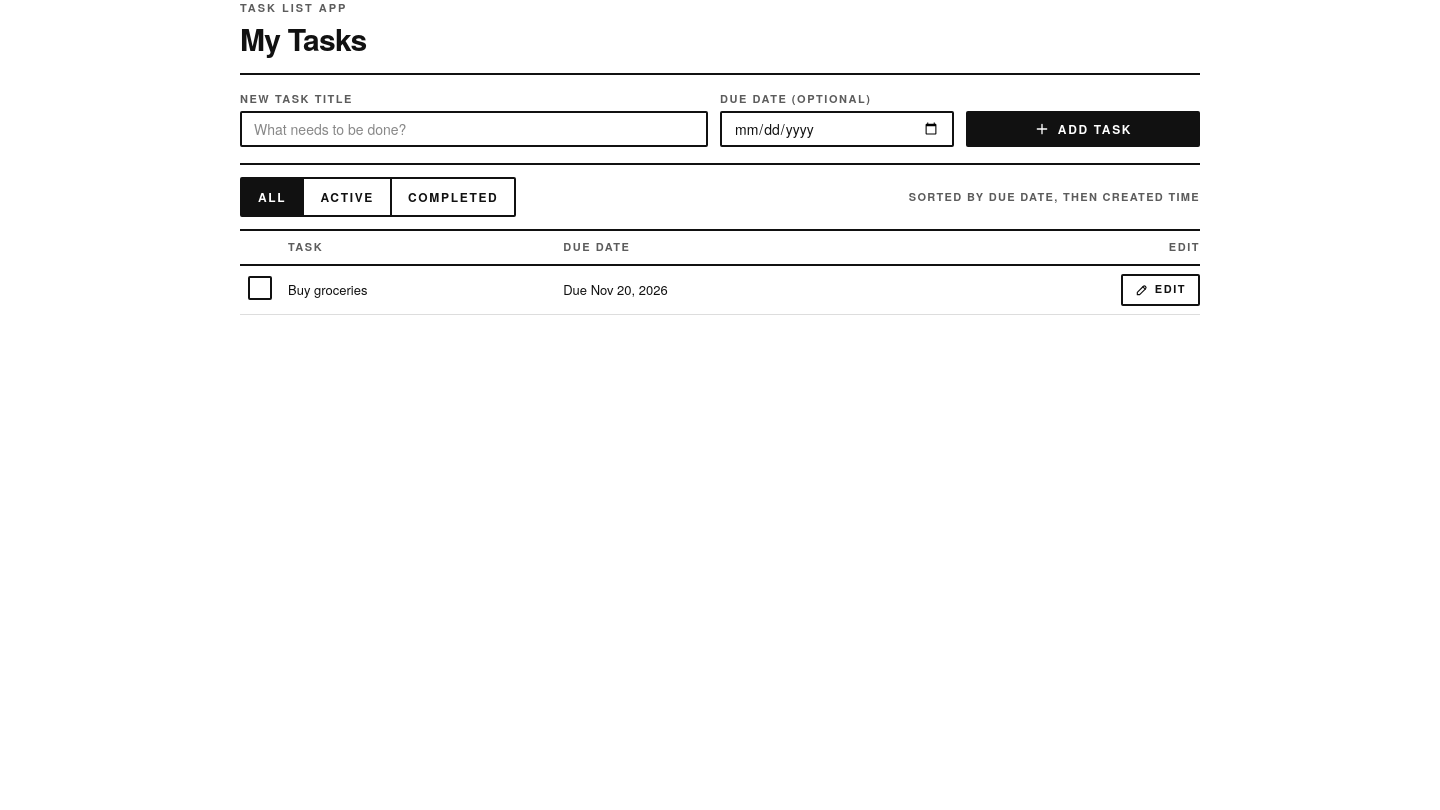
Test: Tasks responsive layout (NFR-008) › [NFR-008] the edit modal action buttons stack vertically on small screens
This screenshot has width=1440, height=810.
Expected: the text "Buy groceries" is shown, [288, 280, 367, 299]
Click the button named "Edit \"Buy groceries\"" at x=1160, y=290, box [1121, 274, 1200, 306]
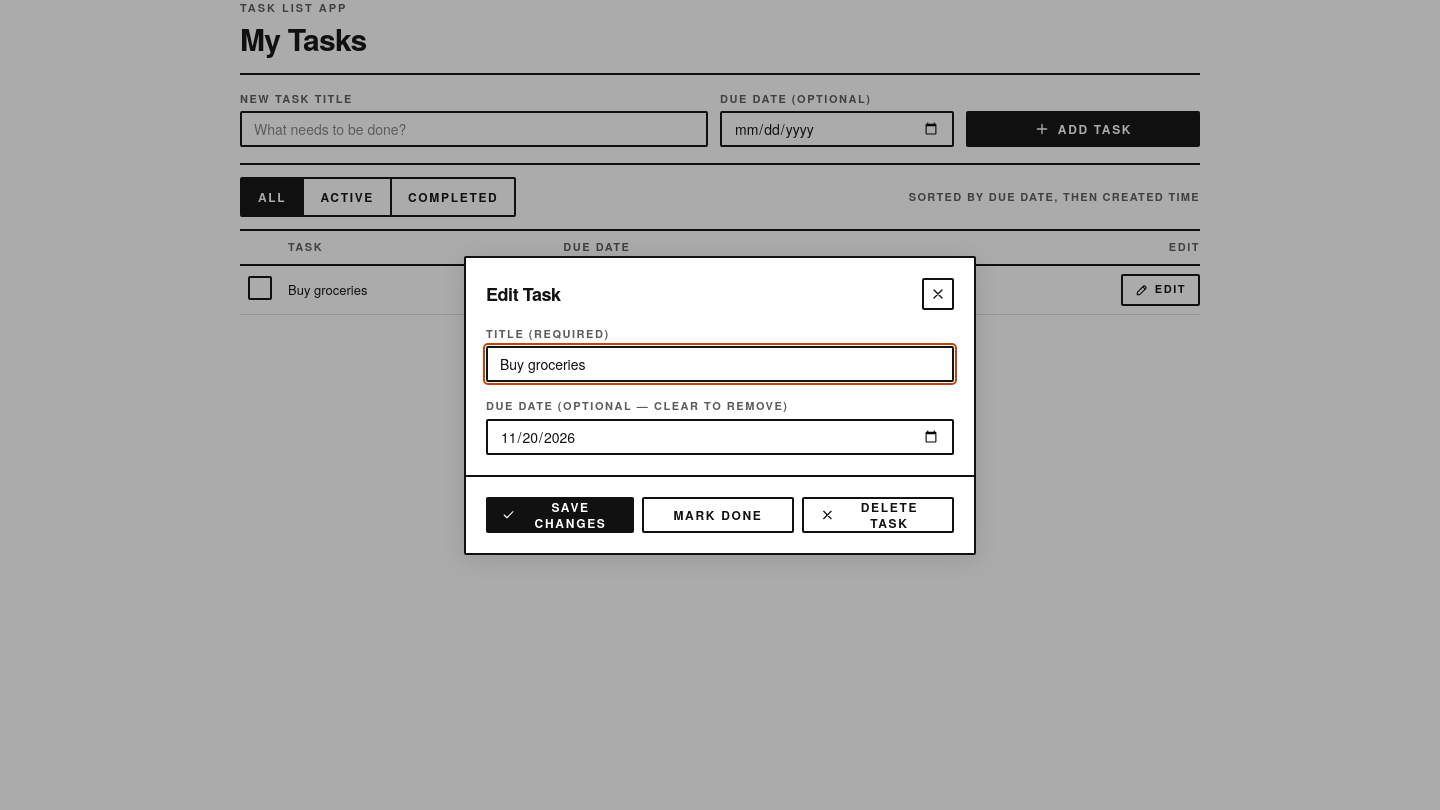
Now the element "Save Changes Mark Done Delete Task" is shown, box [486, 496, 954, 532]
